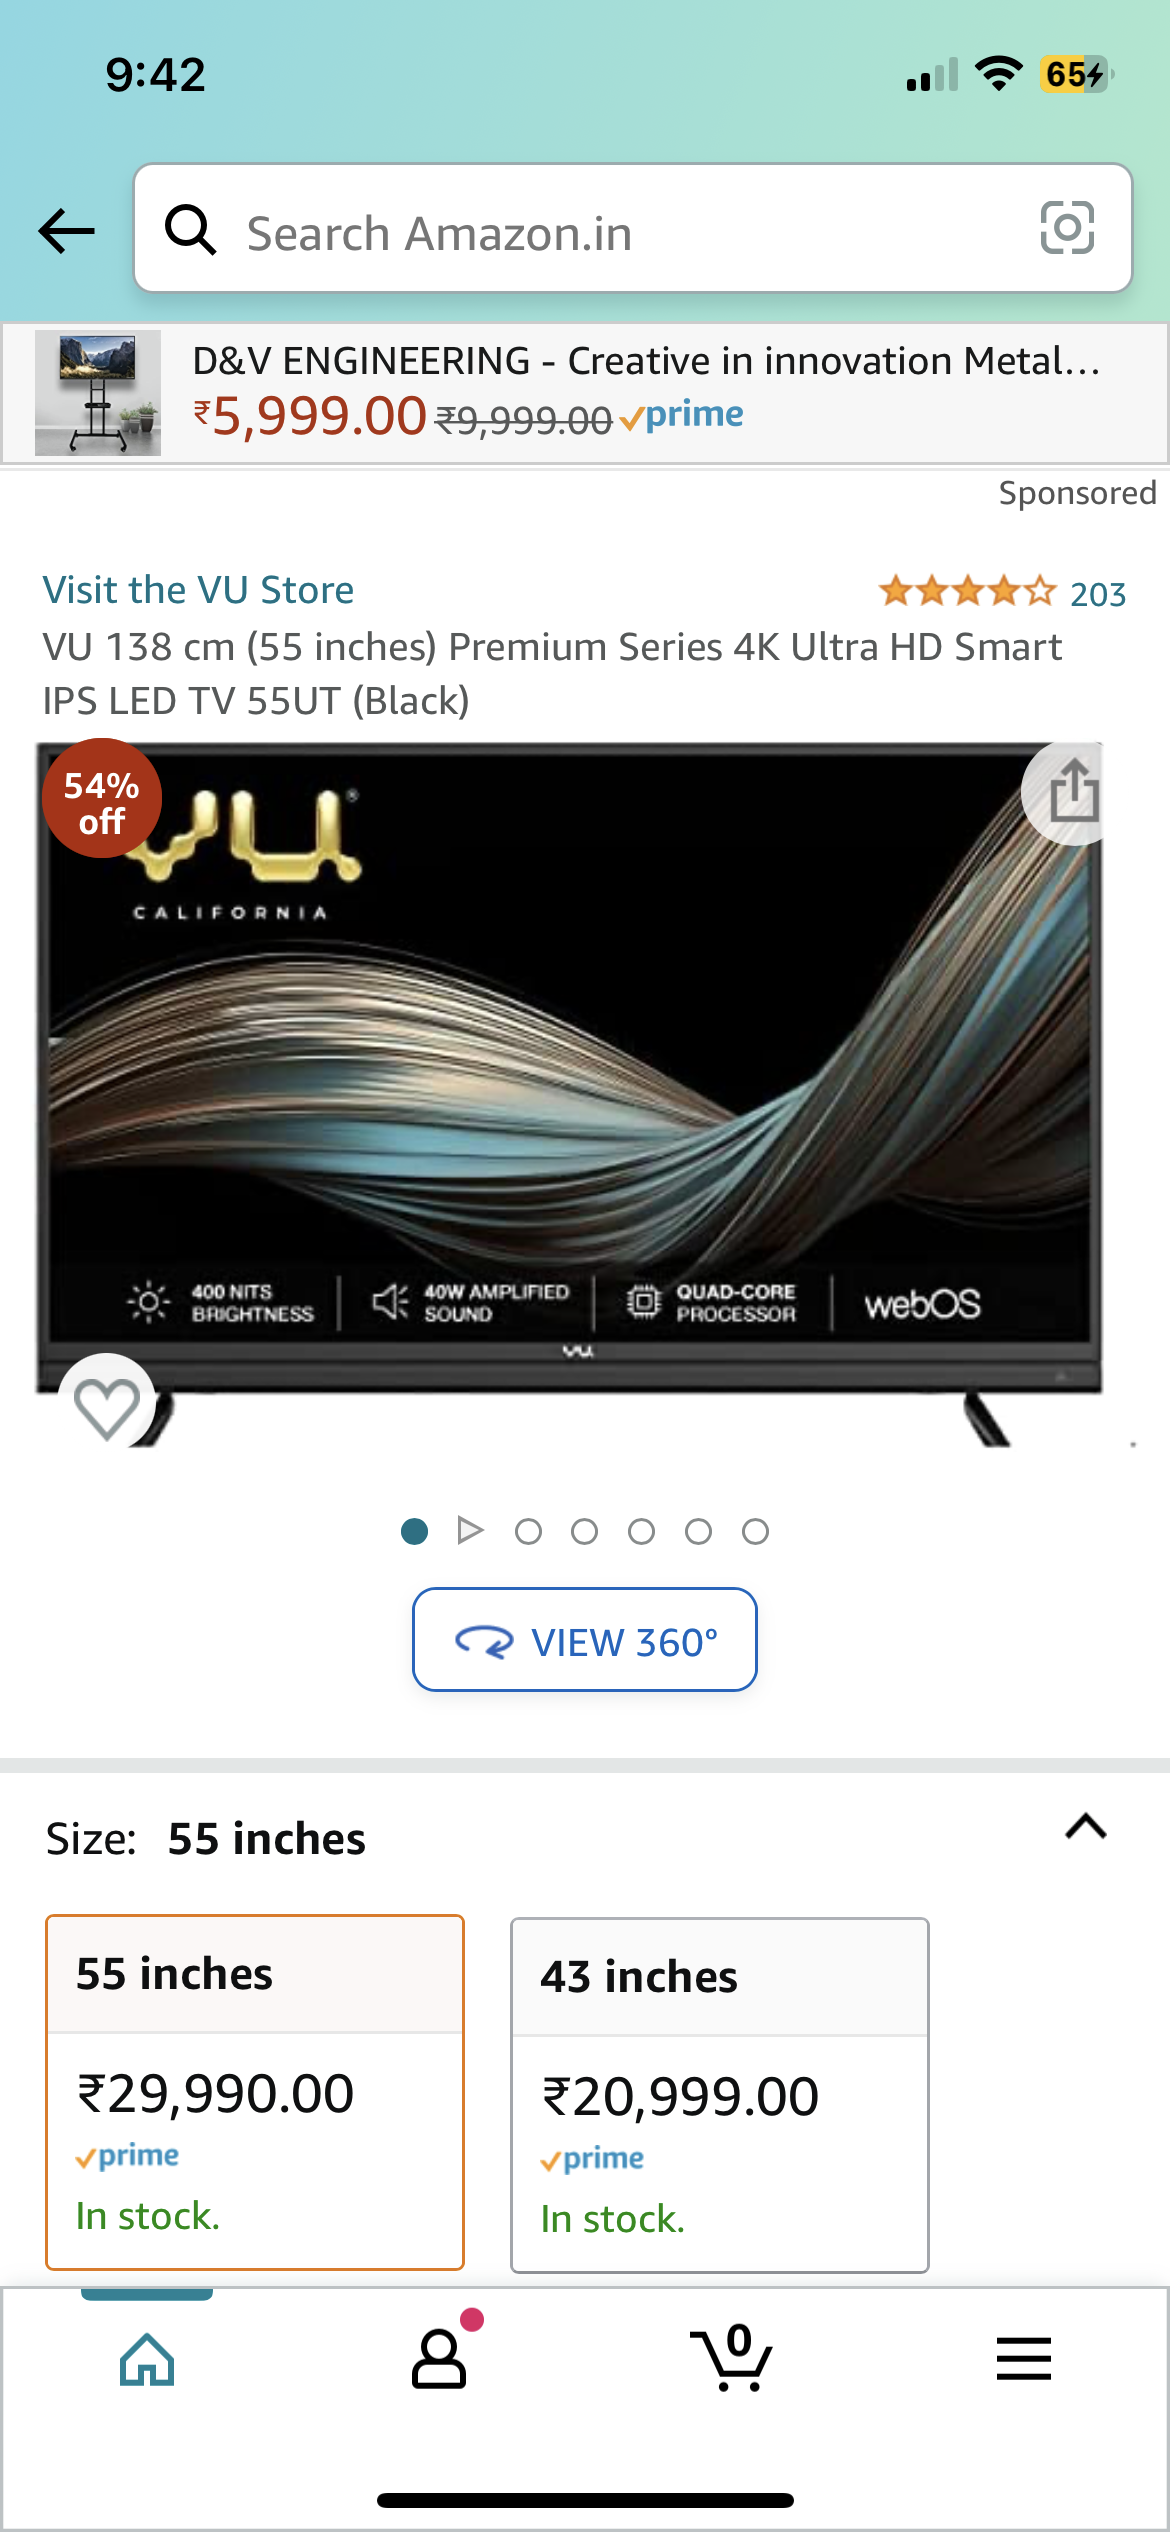LEDTV: (29, 733, 1114, 1447)
